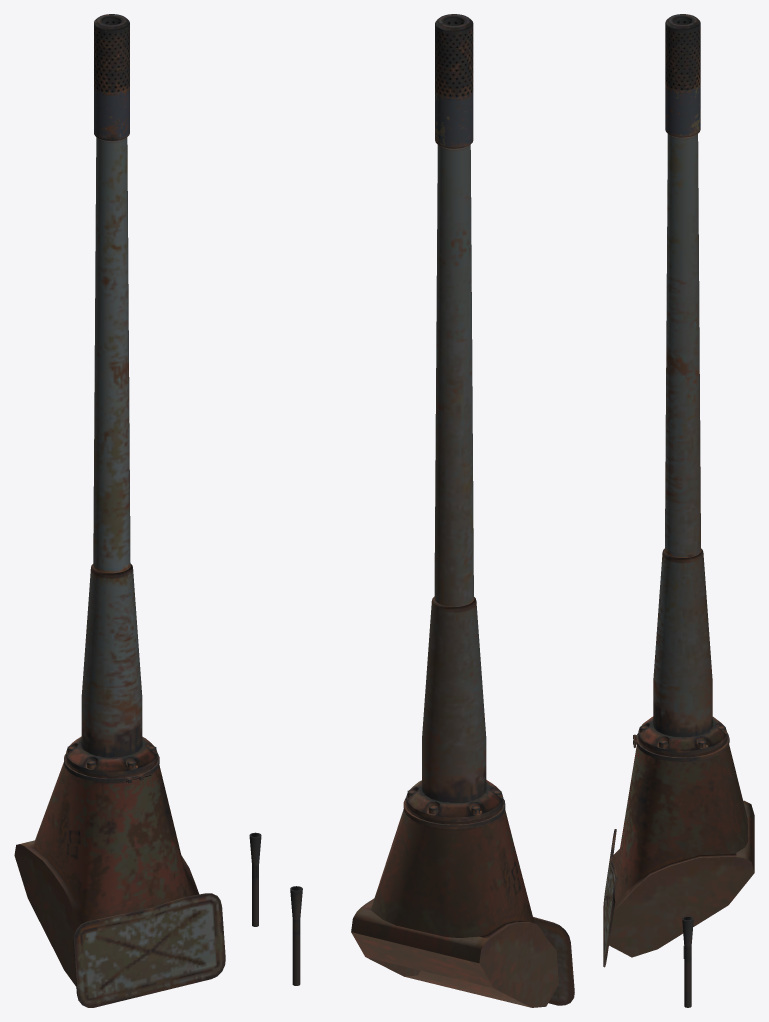
Rendered from Gun_08.glb.
3 views of the same model, side by side, from view 1: azimuth 30°, elevation 25°; view 2: azimuth 150°, elevation 25°; view 3: azimuth 270°, elevation 25° (orthographic). The views are drawn at different scales.
Parts seen in each view (by area): view 1: set_0_group_0; view 2: set_0_group_0; view 3: set_0_group_0.
Part boxes in pixels (bbox=[...]): set_0_group_0: bbox=[14, 14, 261, 1007]; set_0_group_0: bbox=[290, 14, 574, 1007]; set_0_group_0: bbox=[603, 14, 754, 1007].
Size of the model in its own units: 1.03 by 4.1 by 0.6132.
1 material, 1 textured.
